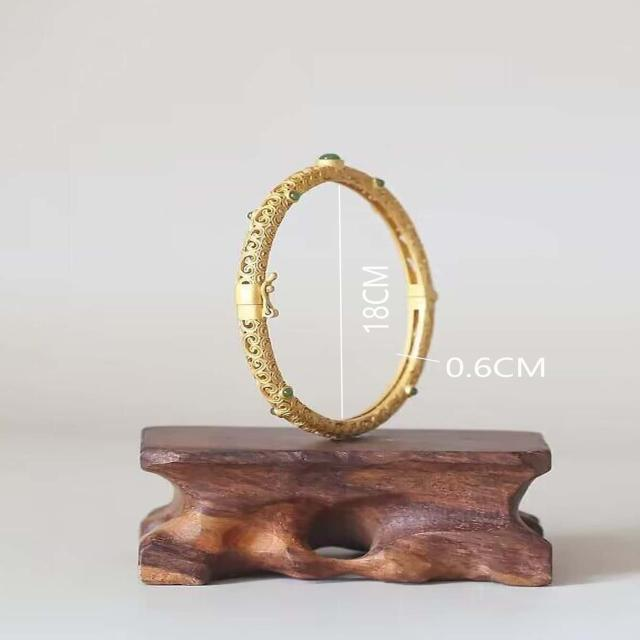bracelet: (131, 116, 591, 434)
